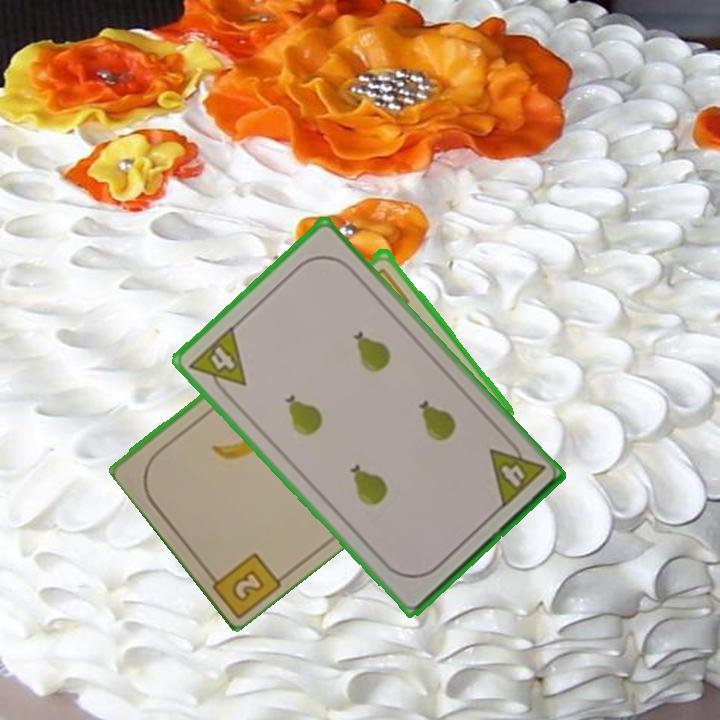2b: (200, 548, 285, 618)
4p: (185, 322, 249, 403), (485, 433, 548, 512)
